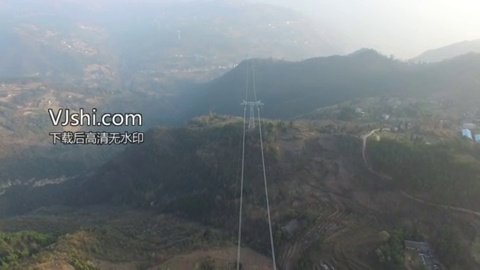tower_body: (238, 96, 266, 130)
tower_foot: (247, 117, 255, 128)
tower_head: (240, 98, 263, 109)
